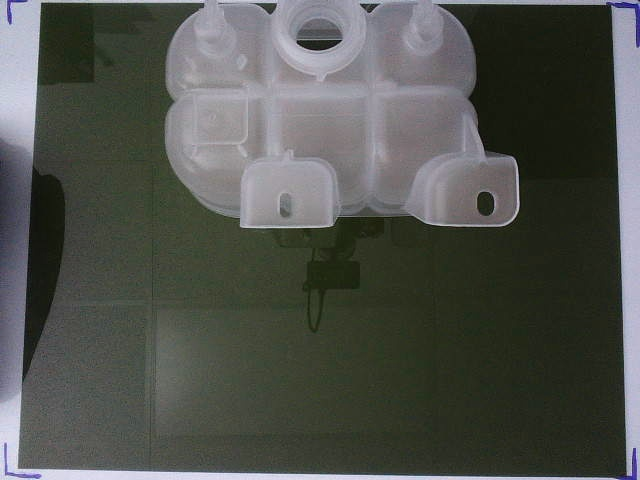reservoir_transparent_Top: (165, 1, 520, 229)
